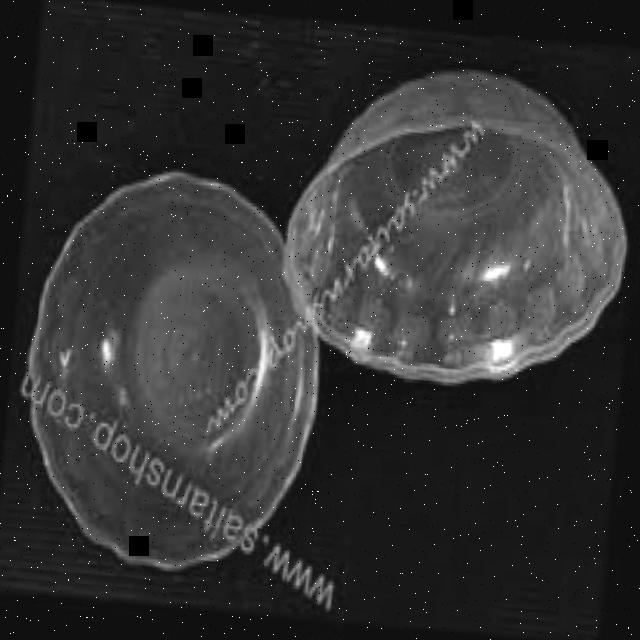plastic_box: (8, 160, 334, 582), (276, 61, 640, 396)
